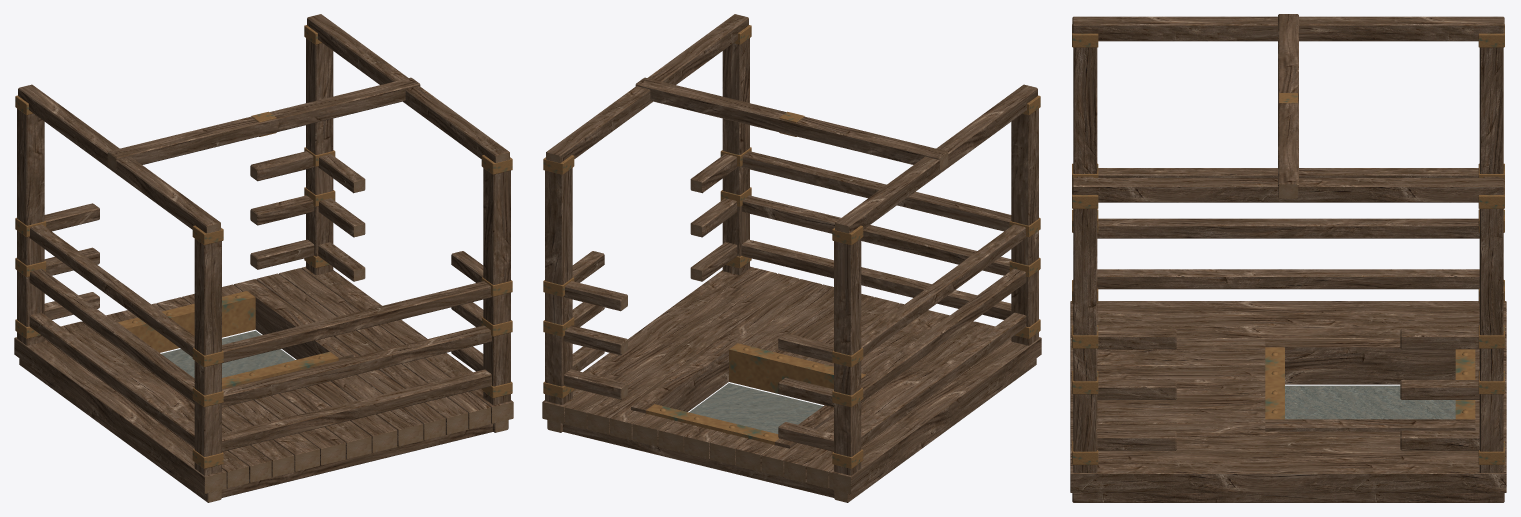
Rendered from basket.glb.
3 views of the same model, side by side, from view 1: azimuth 30°, elevation 25°; view 2: azimuth 150°, elevation 25°; view 3: azimuth 270°, elevation 25° (orthographic). The views are drawn at different scales.
Visible parts, largest first — view 1: 衡梁 · 支点与绳路/双臂衡梁 · 120 m/A 梁端吊点/A · 镇石配重吊篮/CounterweightBaske (×4), 衡梁 · 支点与绳路/双臂衡梁 · 120 m/A 梁端吊点/A · 镇石配重吊篮/A 配重槽 · 净口 1.25 /  (×3); view 2: 衡梁 · 支点与绳路/双臂衡梁 · 120 m/A 梁端吊点/A · 镇石配重吊篮/CounterweightBaske (×4), 衡梁 · 支点与绳路/双臂衡梁 · 120 m/A 梁端吊点/A · 镇石配重吊篮/A 配重槽 · 净口 1.25 /  (×3); view 3: 衡梁 · 支点与绳路/双臂衡梁 · 120 m/A 梁端吊点/A · 镇石配重吊篮/CounterweightBaske (×3), 衡梁 · 支点与绳路/双臂衡梁 · 120 m/A 梁端吊点/A · 镇石配重吊篮/A 配重槽 · 净口 1.25 /  (×3).
Boxes of the visible parts, x1=… form: 衡梁 · 支点与绳路/双臂衡梁 · 120 m/A 梁端吊点/A · 镇石配重吊篮/CounterweightBaske (×4): x1=14, y1=14, x2=513, y2=502; 衡梁 · 支点与绳路/双臂衡梁 · 120 m/A 梁端吊点/A · 镇石配重吊篮/A 配重槽 · 净口 1.25 /  (×3): x1=116, y1=287, x2=353, y2=389; 衡梁 · 支点与绳路/双臂衡梁 · 120 m/A 梁端吊点/A · 镇石配重吊篮/CounterweightBaske (×4): x1=542, y1=14, x2=1041, y2=502; 衡梁 · 支点与绳路/双臂衡梁 · 120 m/A 梁端吊点/A · 镇石配重吊篮/A 配重槽 · 净口 1.25 /  (×3): x1=631, y1=339, x2=868, y2=448; 衡梁 · 支点与绳路/双臂衡梁 · 120 m/A 梁端吊点/A · 镇石配重吊篮/CounterweightBaske (×3): x1=1070, y1=14, x2=1506, y2=502; 衡梁 · 支点与绳路/双臂衡梁 · 120 m/A 梁端吊点/A · 镇石配重吊篮/A 配重槽 · 净口 1.25 /  (×3): x1=1265, y1=339, x2=1475, y2=431.
Size of the model in its own units: 3 by 2.64 by 3.2.
Materials: 5 (5 with a texture image).
